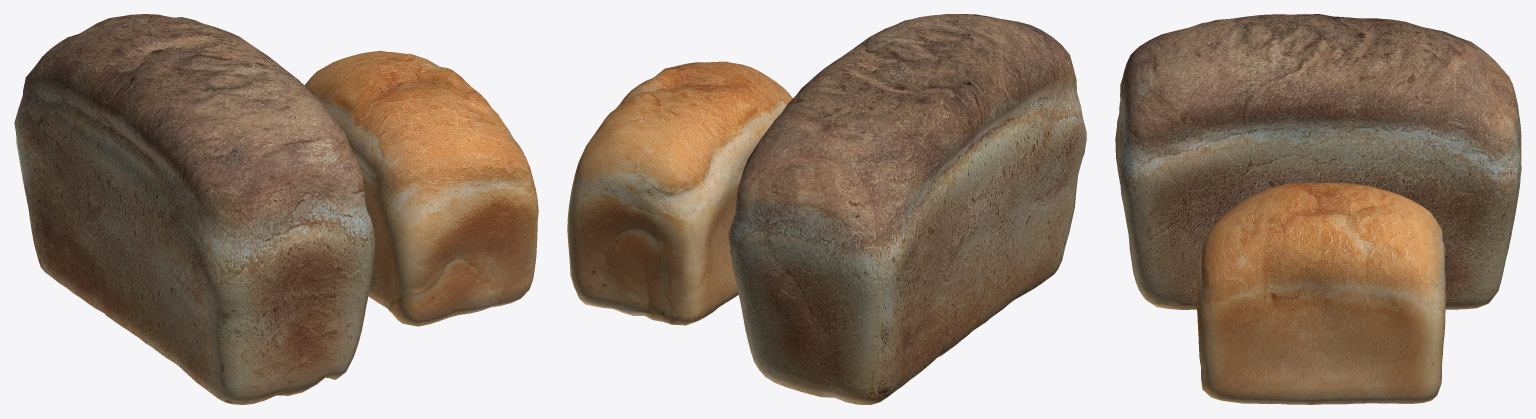
The model's file is TESTE.glb.
The picture shows the model from 3 angles, left to right: view 1: azimuth 30°, elevation 25°; view 2: azimuth 150°, elevation 25°; view 3: azimuth 270°, elevation 25°; orthographic projection. The views are drawn at different scales.
Parts seen in each view (by area): view 1: byxanka-2, byxanka-mini; view 2: byxanka-2, byxanka-mini; view 3: byxanka-2, byxanka-mini.
Part boxes in pixels (x1=…): byxanka-2: x1=14, y1=14, x2=375, y2=404; byxanka-mini: x1=304, y1=50, x2=538, y2=326; byxanka-2: x1=728, y1=14, x2=1086, y2=404; byxanka-mini: x1=567, y1=61, x2=792, y2=325; byxanka-2: x1=1115, y1=14, x2=1521, y2=309; byxanka-mini: x1=1196, y1=182, x2=1445, y2=404.
Bounding box in the file's own units: 0.2128 × 0.1513 × 0.2196.
Materials: 2 (2 with a texture image).
